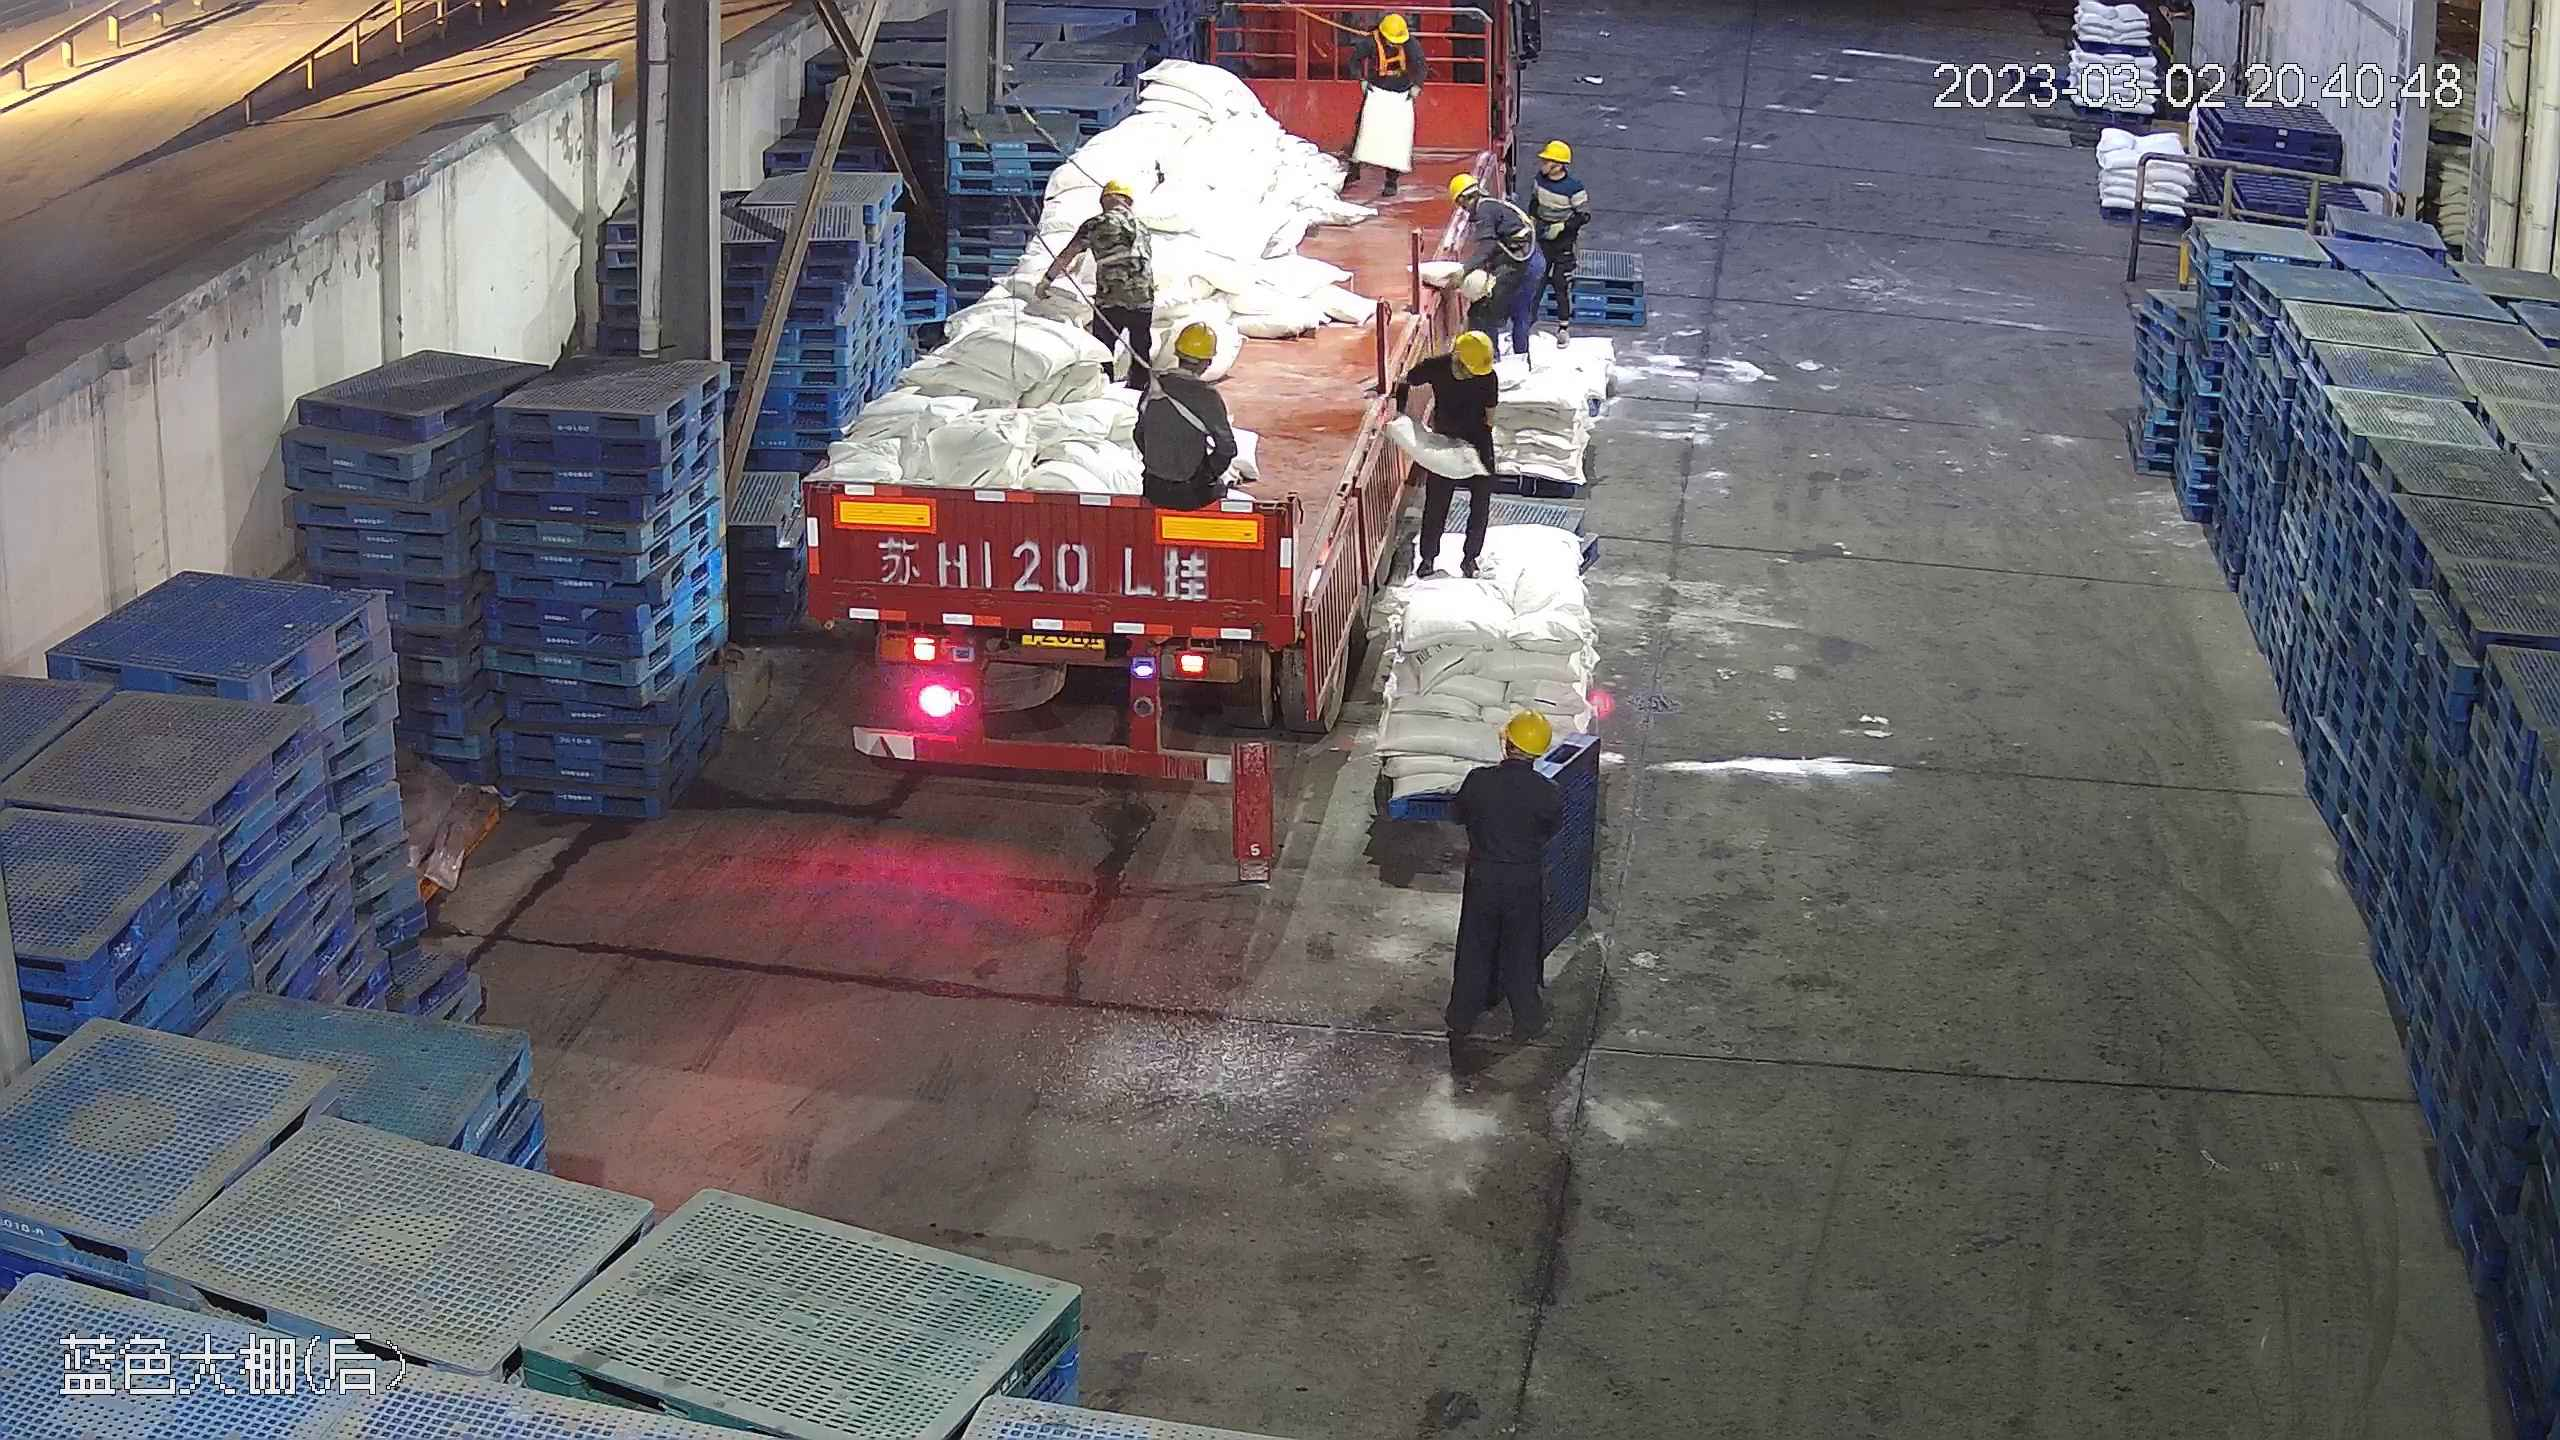belt: (1144, 361, 1225, 455), (1475, 190, 1535, 254), (1096, 211, 1152, 273), (1362, 42, 1405, 84)
head: (1457, 705, 1558, 822), (1142, 318, 1234, 419), (1412, 329, 1499, 408), (1445, 166, 1522, 230), (1080, 176, 1150, 246), (1525, 136, 1580, 205), (1355, 12, 1414, 66)
helmet: (1500, 707, 1554, 753), (1449, 327, 1497, 374), (1168, 319, 1220, 360), (1533, 137, 1580, 179), (1446, 169, 1479, 202), (1377, 11, 1410, 42), (1097, 176, 1132, 202), (1539, 137, 1573, 161)
people: (1445, 703, 1570, 1087), (1402, 326, 1503, 584), (1034, 175, 1155, 390), (1135, 320, 1242, 523), (1442, 159, 1540, 359), (1517, 142, 1588, 348), (1338, 13, 1419, 187)
truck: (786, 24, 1519, 773)
